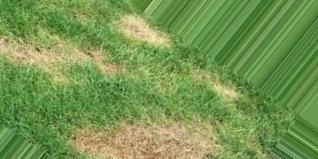patch: (13, 39, 58, 68), (64, 46, 110, 71), (89, 126, 125, 156), (170, 120, 197, 159), (133, 125, 162, 158), (115, 18, 153, 41), (213, 81, 240, 102), (201, 124, 218, 151), (190, 64, 204, 79)
